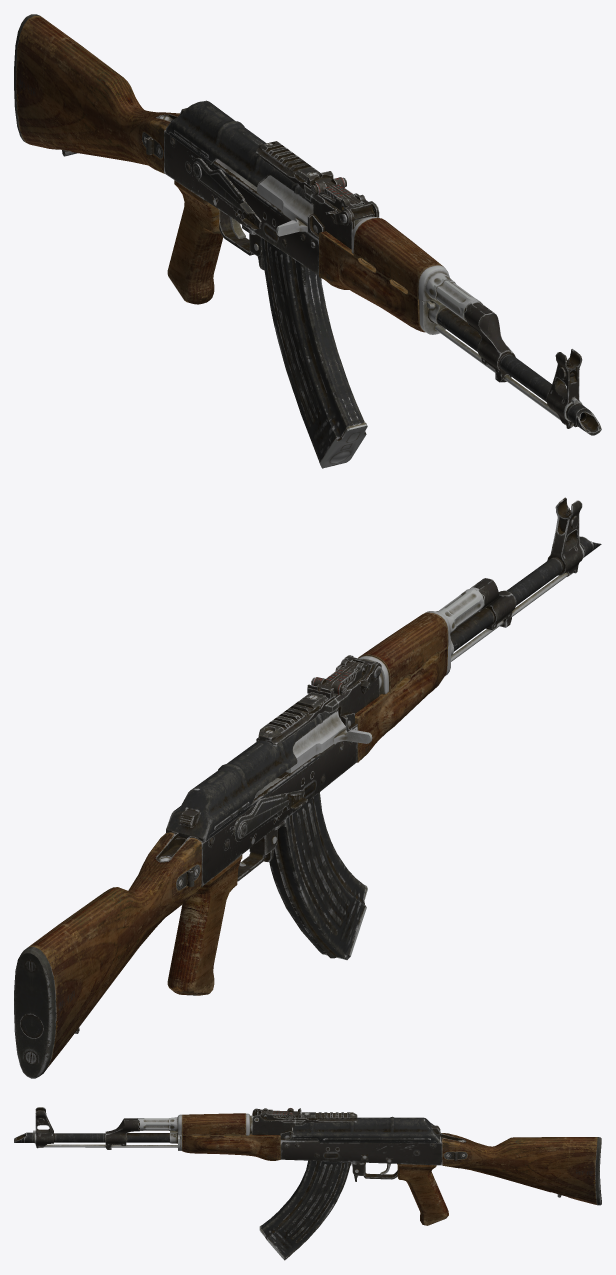
The picture shows the model from 3 angles, top to bottom: view 1: azimuth 30°, elevation 25°; view 2: azimuth 150°, elevation 25°; view 3: azimuth 270°, elevation 25°; orthographic projection. The views are drawn at different scales.
Visible parts, largest first — view 1: FRAME_LOD0.001, FRAME_LOD0; view 2: FRAME_LOD0.001, FRAME_LOD0; view 3: FRAME_LOD0.001, FRAME_LOD0.
Boxes of the visible parts, x1,y1,x2,y2 form: FRAME_LOD0.001: (14,14,601,468); FRAME_LOD0: (256,141,320,201); FRAME_LOD0.001: (14,497,601,1078); FRAME_LOD0: (256,692,338,746); FRAME_LOD0.001: (14,1107,601,1260); FRAME_LOD0: (295,1112,357,1125).
Bounding box in the file's own units: 0.0663 × 0.2451 × 0.88.
Materials: 1 (1 with a texture image).
